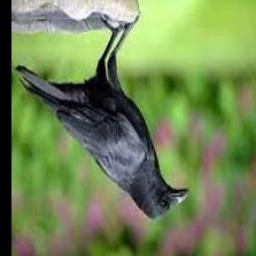Crow: (14, 17, 189, 222)
